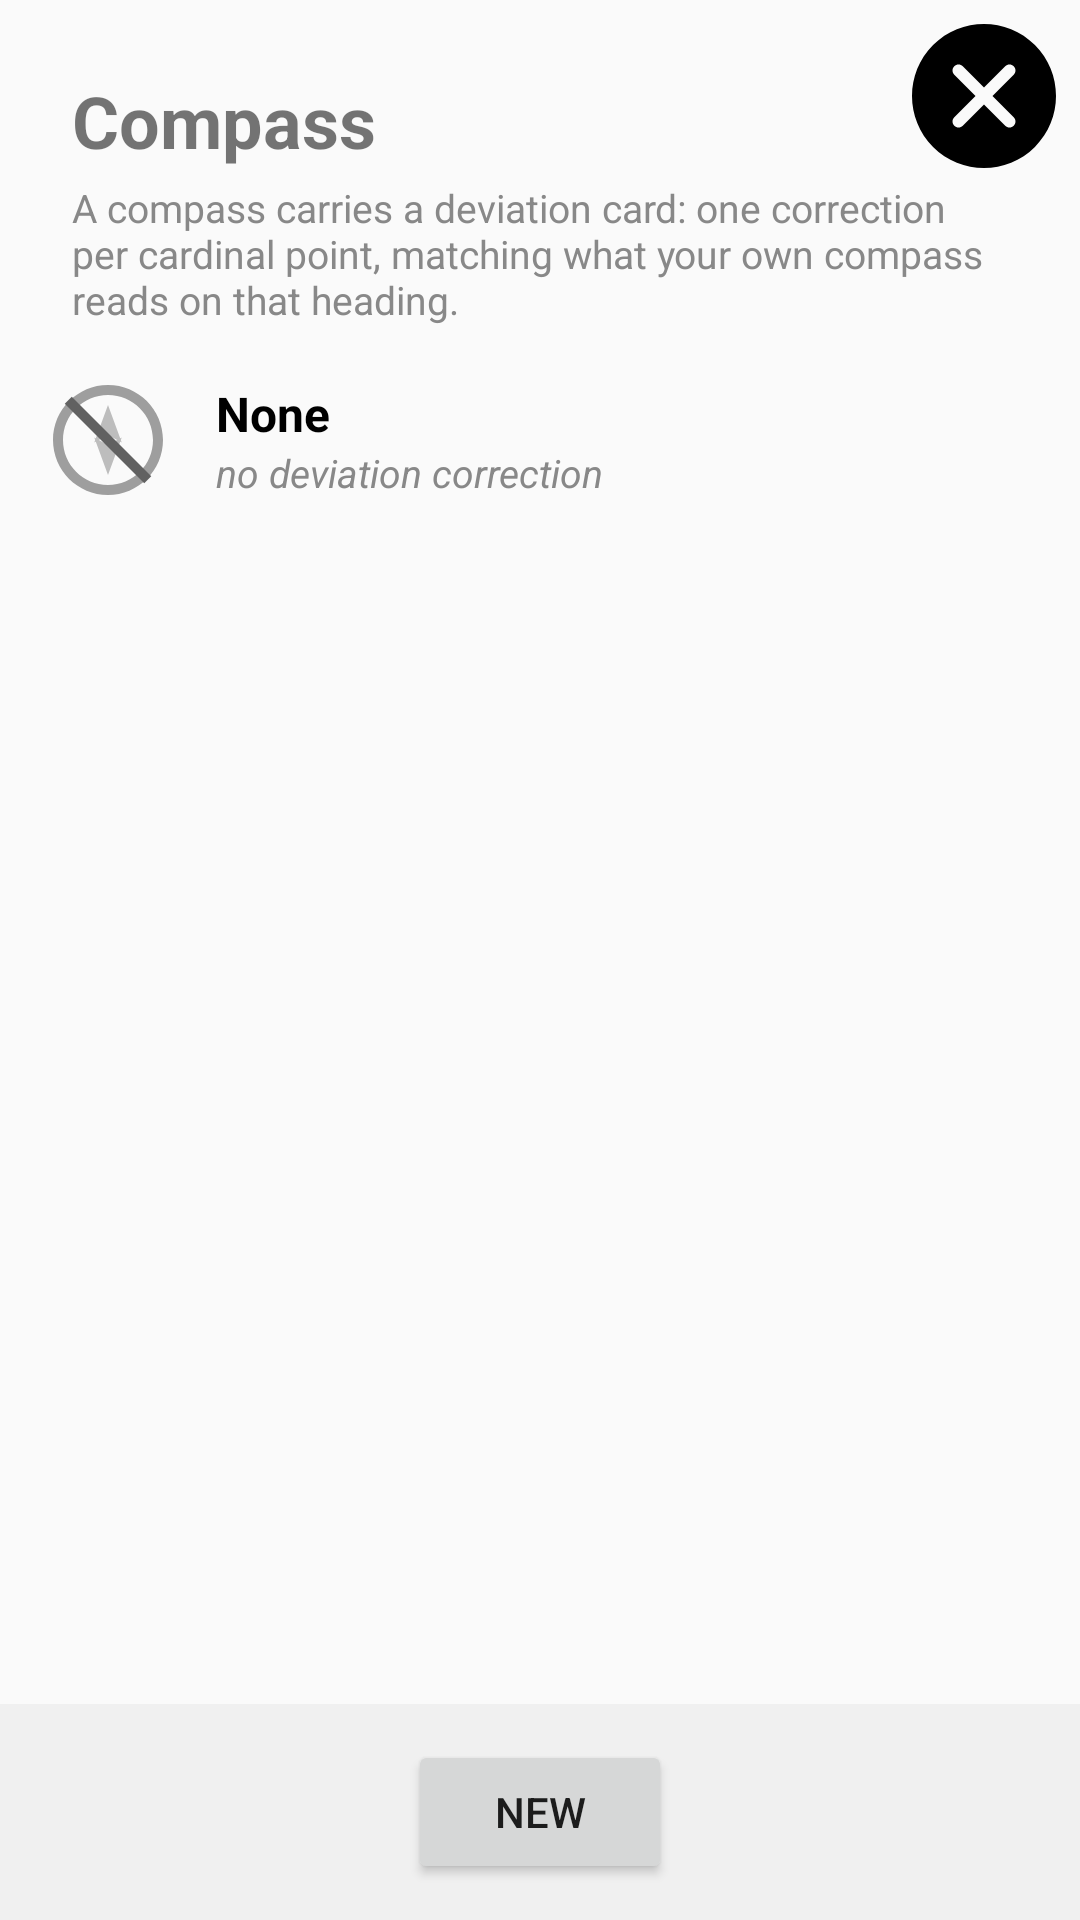

Icons on this 1080 × 1920 Android screen, each with the point to tap as (x=x, y=y):
cancel: (x=984, y=96)
compass off: (x=108, y=440)
